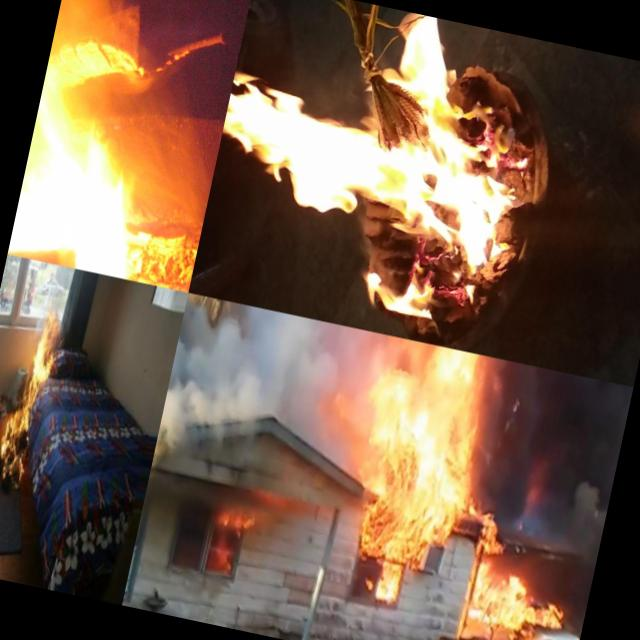fire: (193, 0, 554, 327), (6, 0, 239, 291), (351, 337, 495, 577), (0, 313, 61, 487), (463, 562, 574, 640), (199, 496, 257, 576), (465, 504, 507, 564), (370, 554, 409, 614)
smoke: (165, 293, 401, 456), (458, 356, 632, 518)
